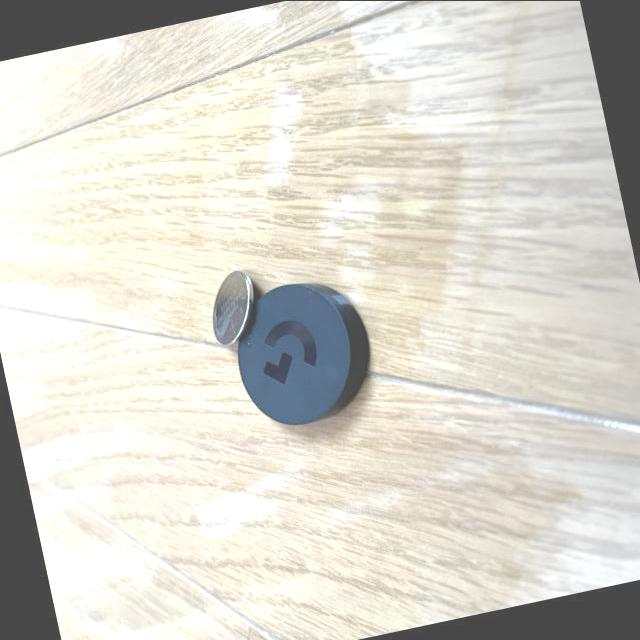COIN: (200, 266, 266, 349)
